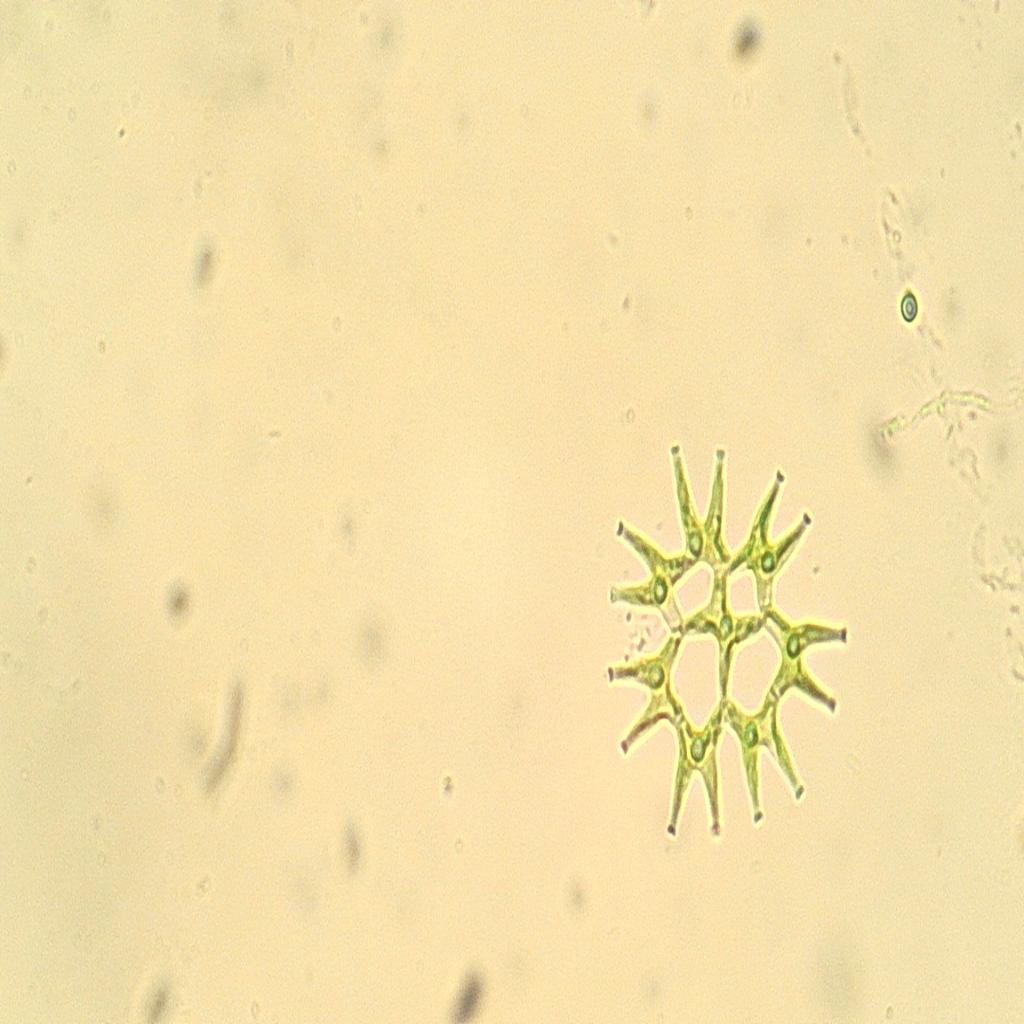Pediastrum_CTH: (582, 402, 858, 882)
